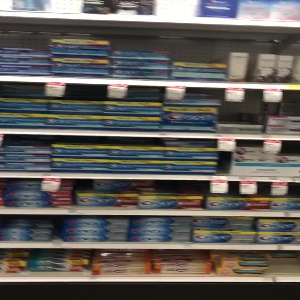void: (267, 250, 300, 277)
